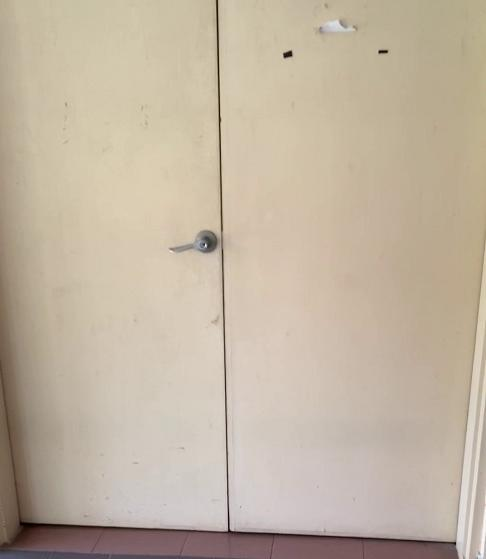door: (0, 0, 219, 541)
